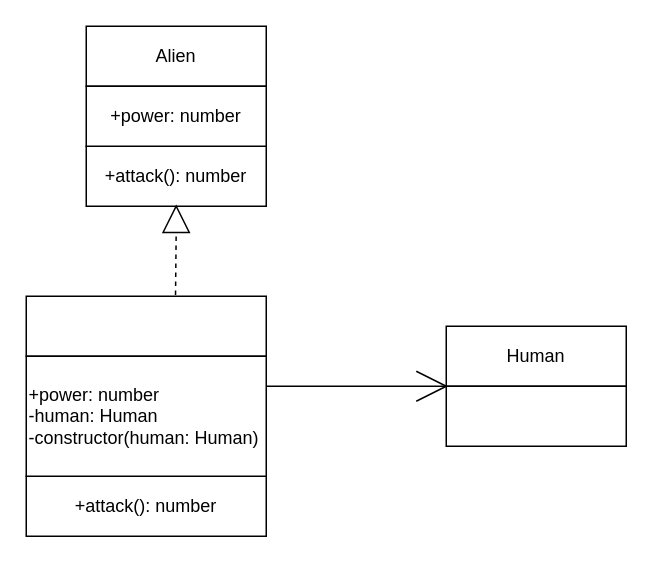
This 653x563 diagram has some shape labels left out. The centre of each missing label's shape, as x and y in pixels:
"+kick(): number +punch(): number" goes at [535,415].
"HumanAdapter" goes at [145,325].
